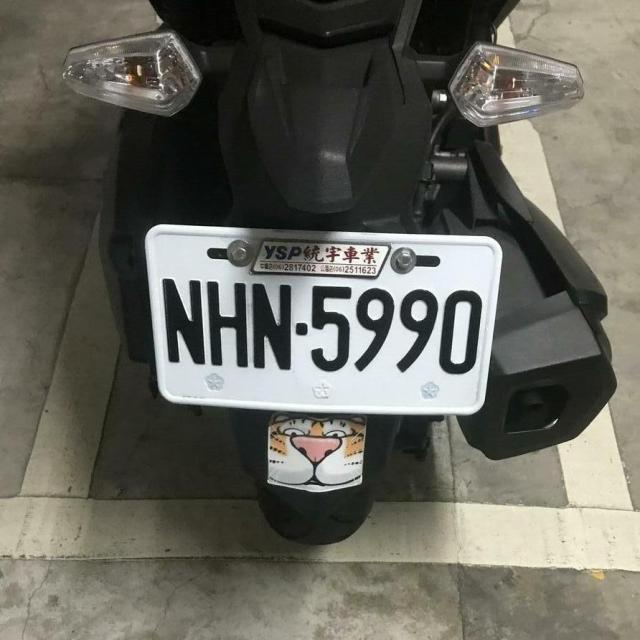W: (137, 218, 508, 428)
